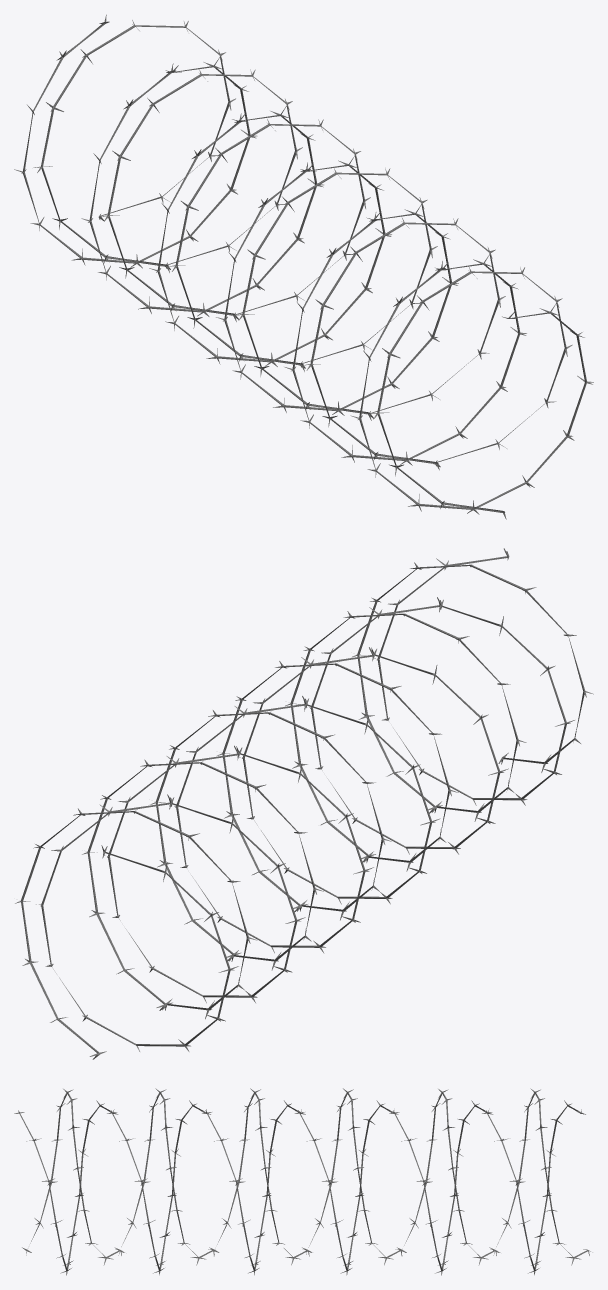
Rendered from Barbed_Wire.fbx.
3 views of the same model, one above another, from view 1: azimuth 30°, elevation 25°; view 2: azimuth 150°, elevation 25°; view 3: azimuth 270°, elevation 25° (orthographic). The views are drawn at different scales.
Visible parts, largest first — view 1: Barbed Wire; view 2: Barbed Wire; view 3: Barbed Wire.
Boxes of the visible parts, bbox=[...] form: Barbed Wire: bbox=[14, 14, 593, 519]; Barbed Wire: bbox=[15, 548, 593, 1059]; Barbed Wire: bbox=[14, 1088, 592, 1275].
Size of the model in its own units: 214 by 226 by 699.
